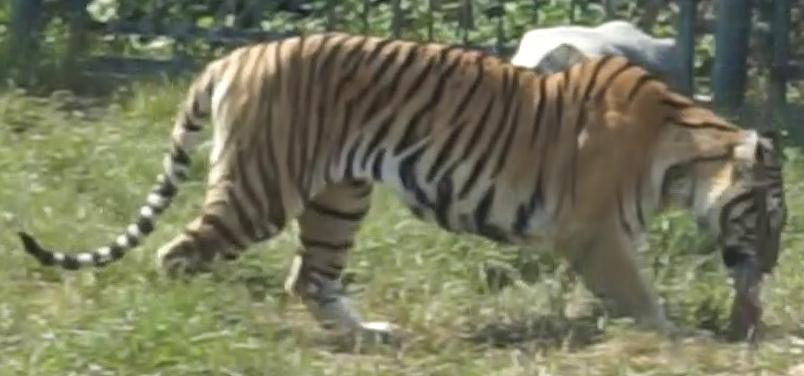tiger: (21, 33, 783, 350)
